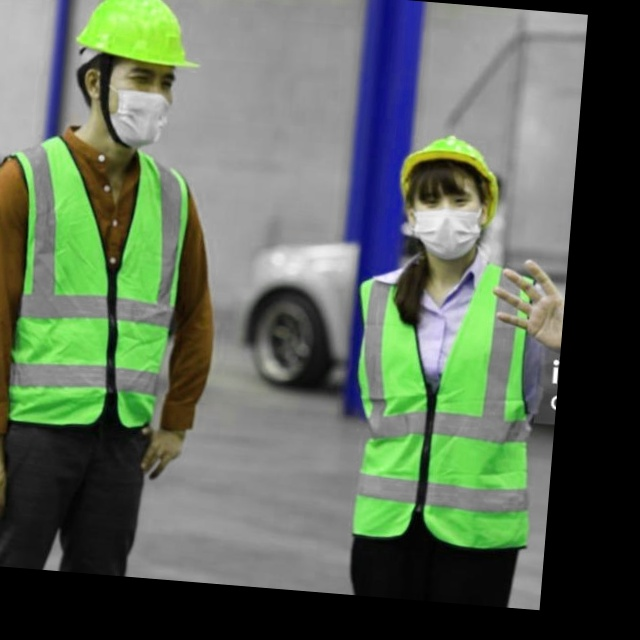Con_Chaleco: (348, 256, 567, 549), (0, 129, 201, 443)
